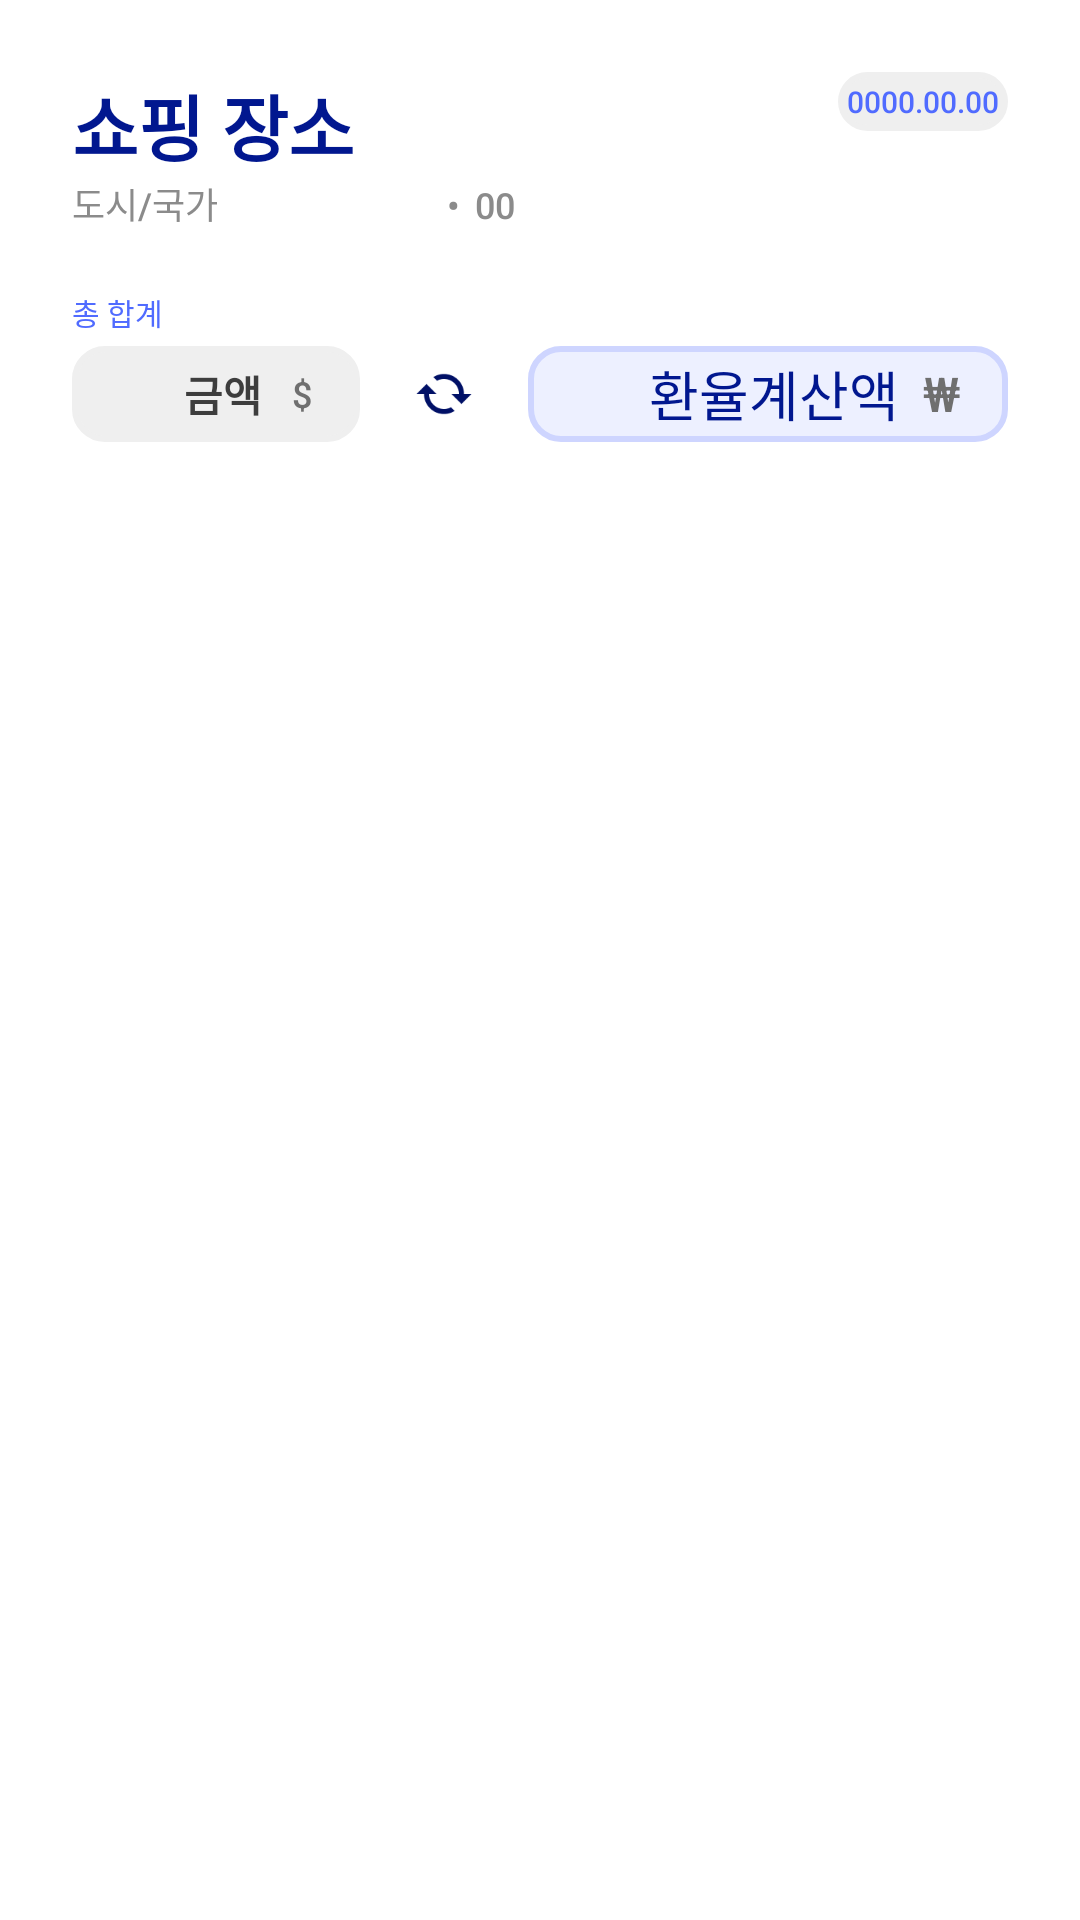

Where to tap for icons on this 1080*1920 app screen, as [x,y]:
change: [444,394]
